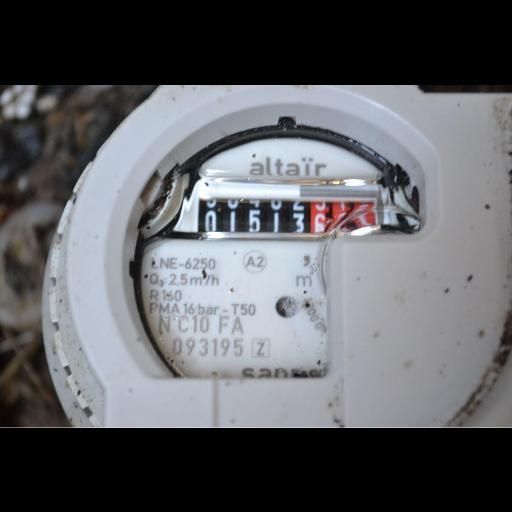0: (200, 198, 223, 234)
1: (266, 198, 288, 235), (221, 197, 243, 233)
3: (288, 198, 311, 235)
5: (243, 197, 266, 233)
6: (311, 198, 330, 234)
border_water_meter_number: (196, 192, 382, 236)
